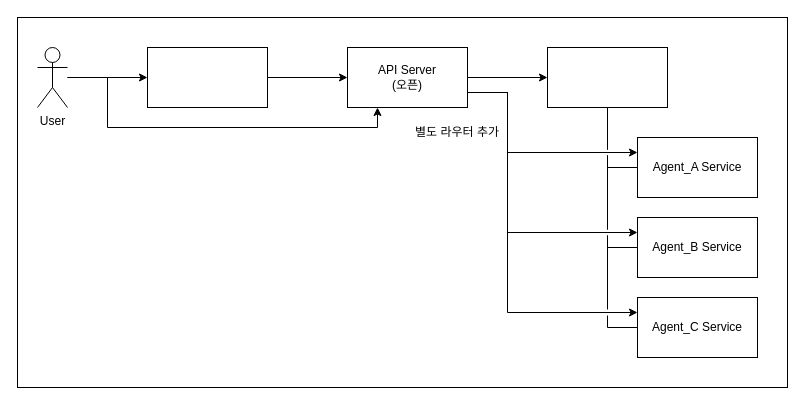
Image size: 805x405. Some labels were removed from this diagram. The box of each missing label's shape, as (x1, y1, x2, y2) in pixels:
Agent Service: (546, 46, 668, 108)
UI: (146, 46, 268, 108)
